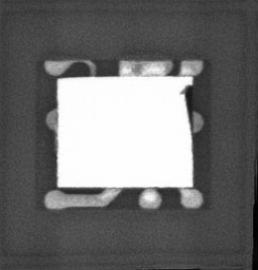DIE_BROKEN: (180, 83, 195, 132)
